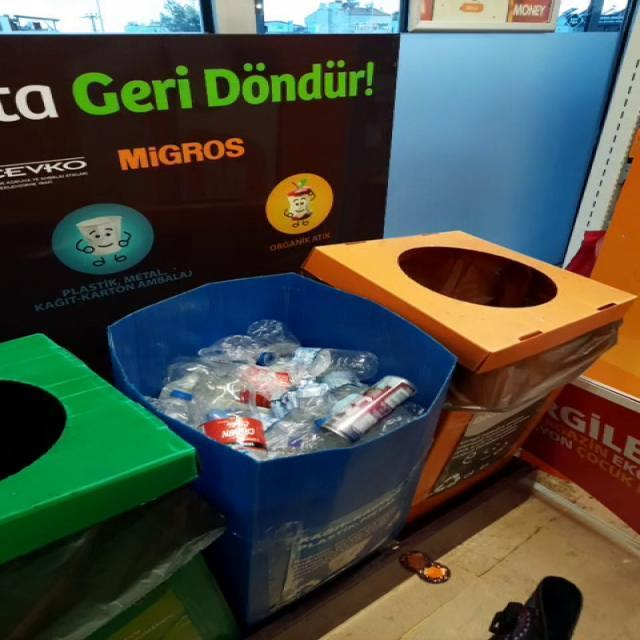Metal: (321, 376, 416, 441)
